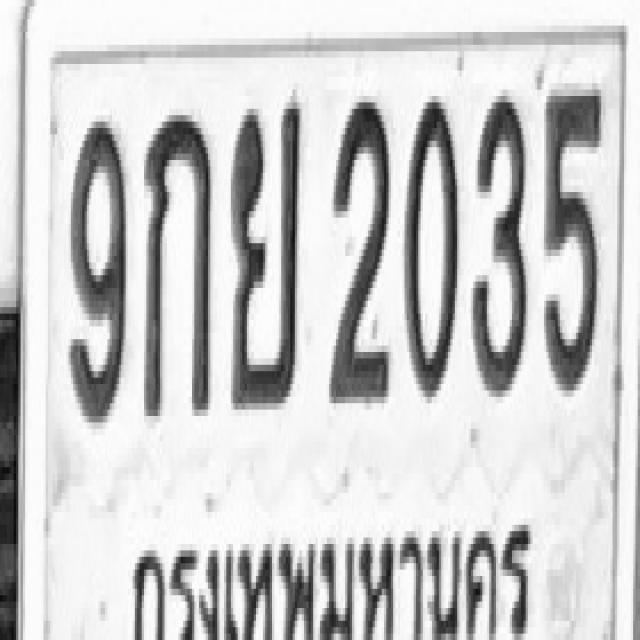0: (404, 86, 458, 400)
10GorGai: (142, 106, 212, 419)
2: (328, 93, 390, 400)
3: (471, 86, 528, 394)
43YorYak: (228, 93, 302, 406)
5: (543, 80, 602, 387)
9: (68, 112, 125, 426)
Bangkok: (128, 507, 542, 640)
